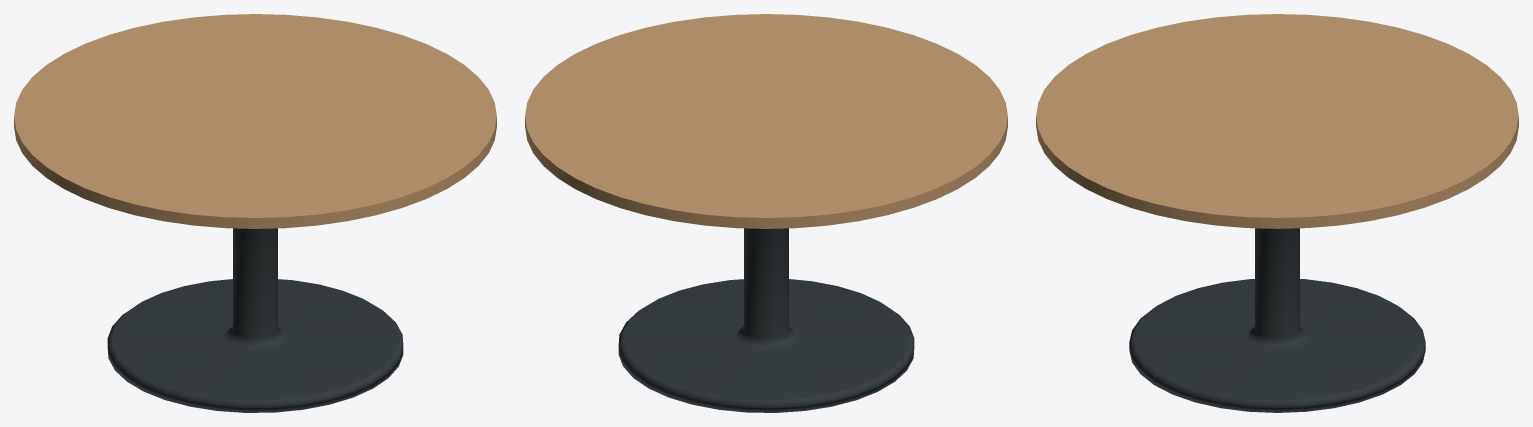
File: mv2-round-cafe-table.glb
3 renders of one model, left to right at view 1: azimuth 30°, elevation 25°; view 2: azimuth 150°, elevation 25°; view 3: azimuth 270°, elevation 25°, orthographic.
Parts seen in each view (by area): view 1: Solid oak round tabletop, Continuous steel round floor plate, column and mounting head; view 2: Solid oak round tabletop, Continuous steel round floor plate, column and mounting head; view 3: Solid oak round tabletop, Continuous steel round floor plate, column and mounting head.
Part boxes in pixels (box(x1,y1,x2,y2)): Solid oak round tabletop: box(14, 14, 496, 228); Continuous steel round floor plate, column and mounting head: box(107, 228, 403, 412); Solid oak round tabletop: box(525, 14, 1007, 228); Continuous steel round floor plate, column and mounting head: box(618, 228, 914, 412); Solid oak round tabletop: box(1036, 14, 1518, 228); Continuous steel round floor plate, column and mounting head: box(1129, 228, 1425, 412).
Bounding box in the file's own units: 1.4 × 0.75 × 1.4.
